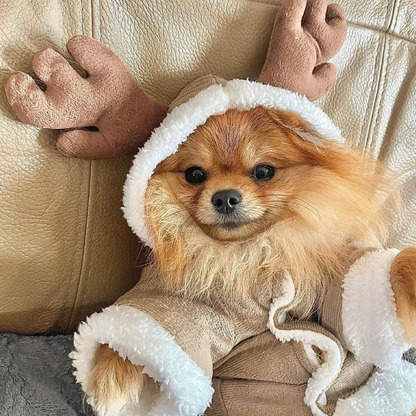Pomeranian: (142, 101, 391, 383)
